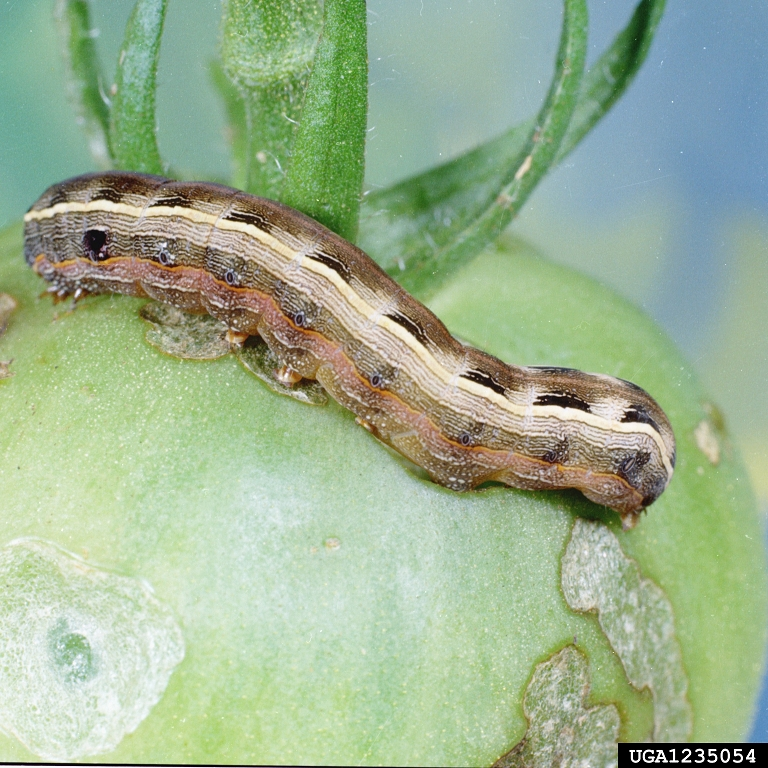Armyworm: (14, 157, 716, 551)
